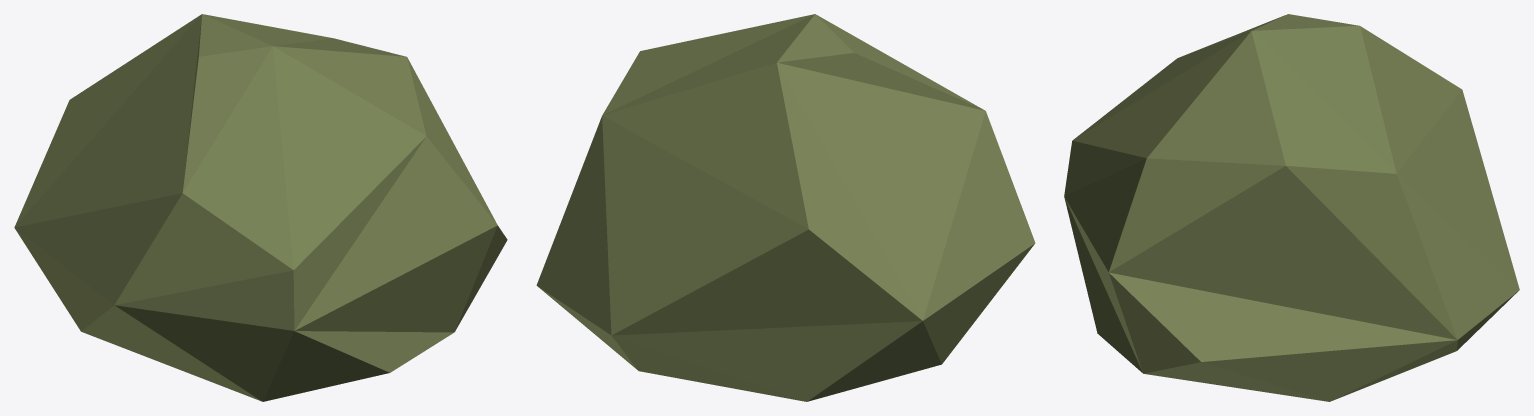
File: Bush.fbx
The picture shows the model from 3 angles, left to right: view 1: azimuth 30°, elevation 25°; view 2: azimuth 150°, elevation 25°; view 3: azimuth 270°, elevation 25°; orthographic projection. The views are drawn at different scales.
Visible parts, largest first — view 1: polySurface13; view 2: polySurface13; view 3: polySurface13.
Part boxes in pixels (left/top/right/bottom): polySurface13: left=14, top=14, right=507, bottom=401; polySurface13: left=536, top=14, right=1035, bottom=401; polySurface13: left=1064, top=14, right=1519, bottom=401.
Bounding box in the file's own units: 132 × 101 × 131.
